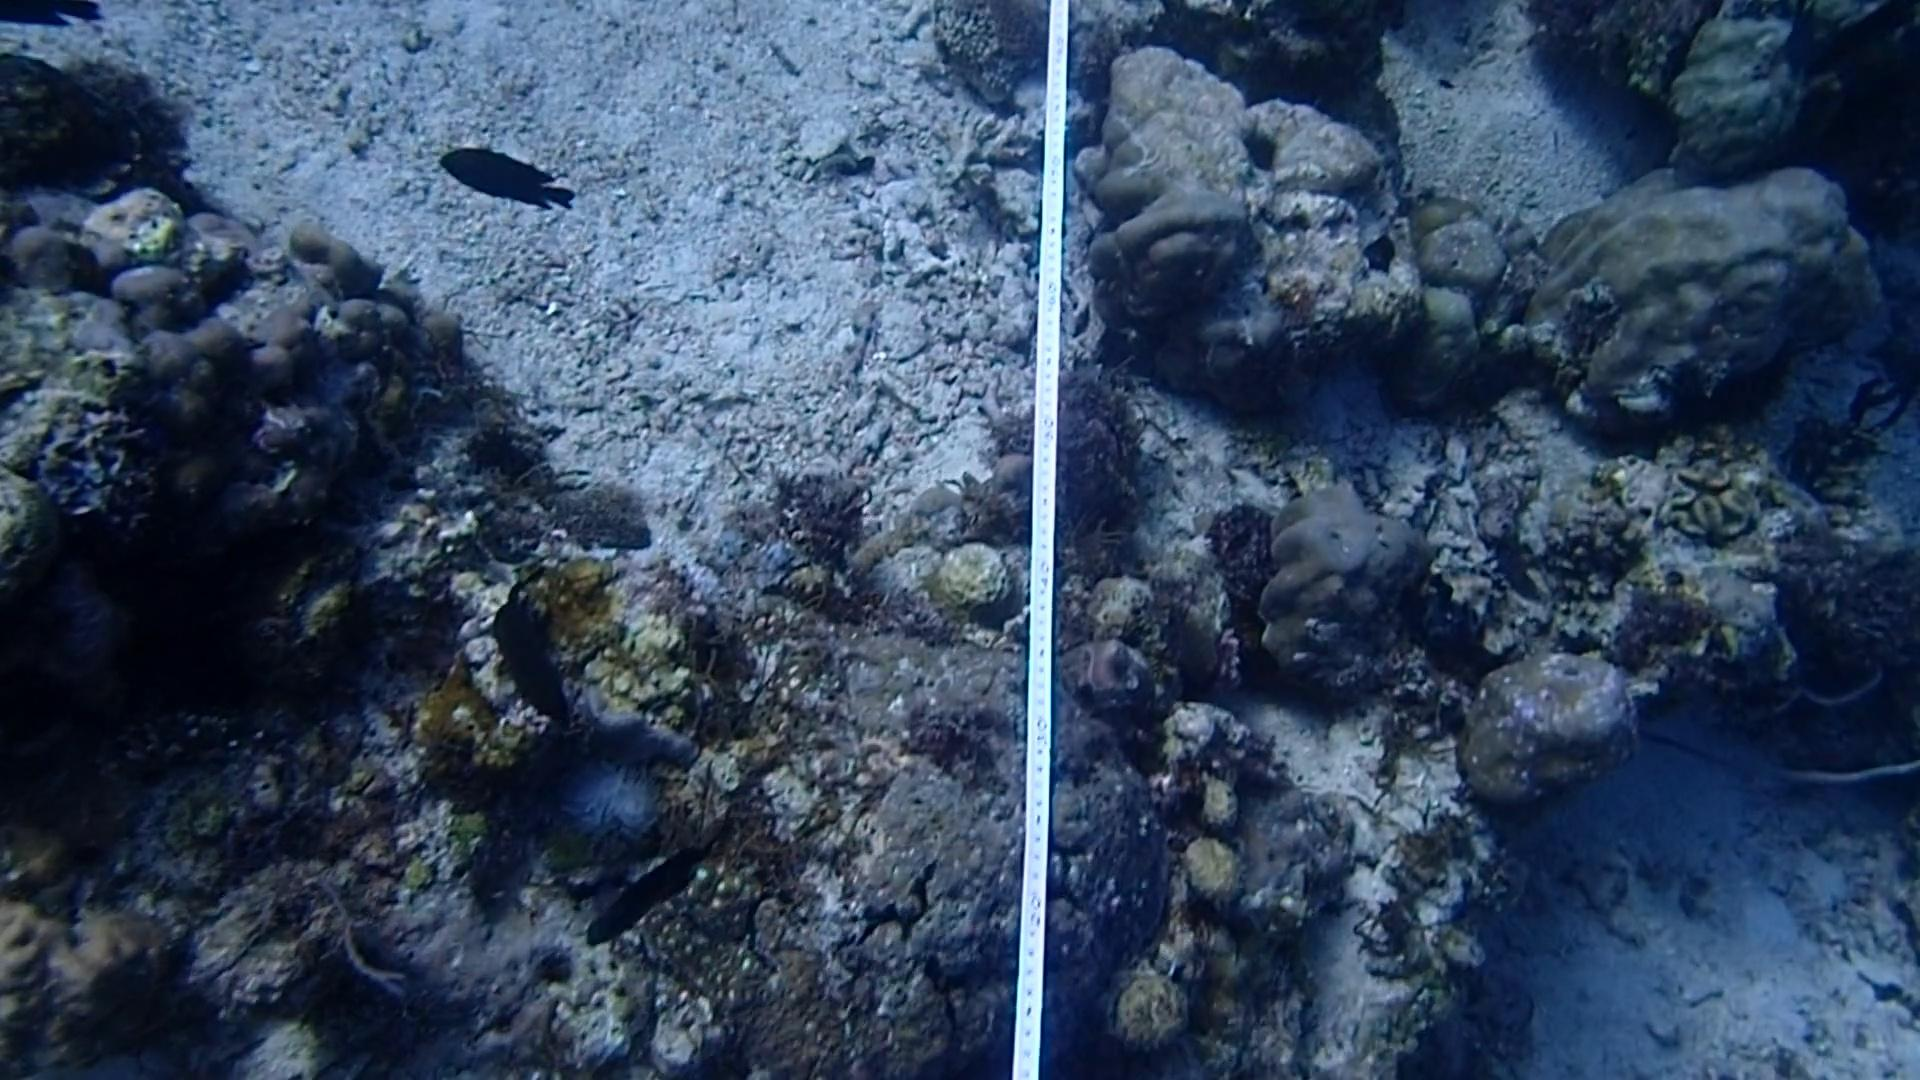Dark Fish: (472, 578, 585, 738), (570, 832, 712, 953), (431, 129, 579, 231), (0, 0, 113, 26)
